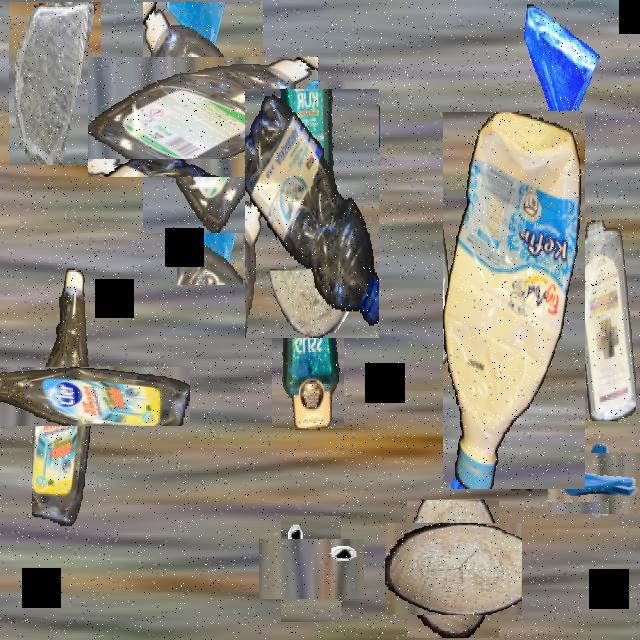glass: (9, 2, 101, 165), (518, 2, 600, 148), (177, 167, 243, 285)
metal: (270, 527, 352, 611), (560, 440, 640, 526)
plastic: (443, 112, 585, 489), (245, 89, 379, 338), (115, 30, 291, 205), (0, 317, 141, 475), (272, 176, 344, 428), (575, 220, 635, 420)
wood: (396, 511, 510, 627), (274, 85, 350, 160)
